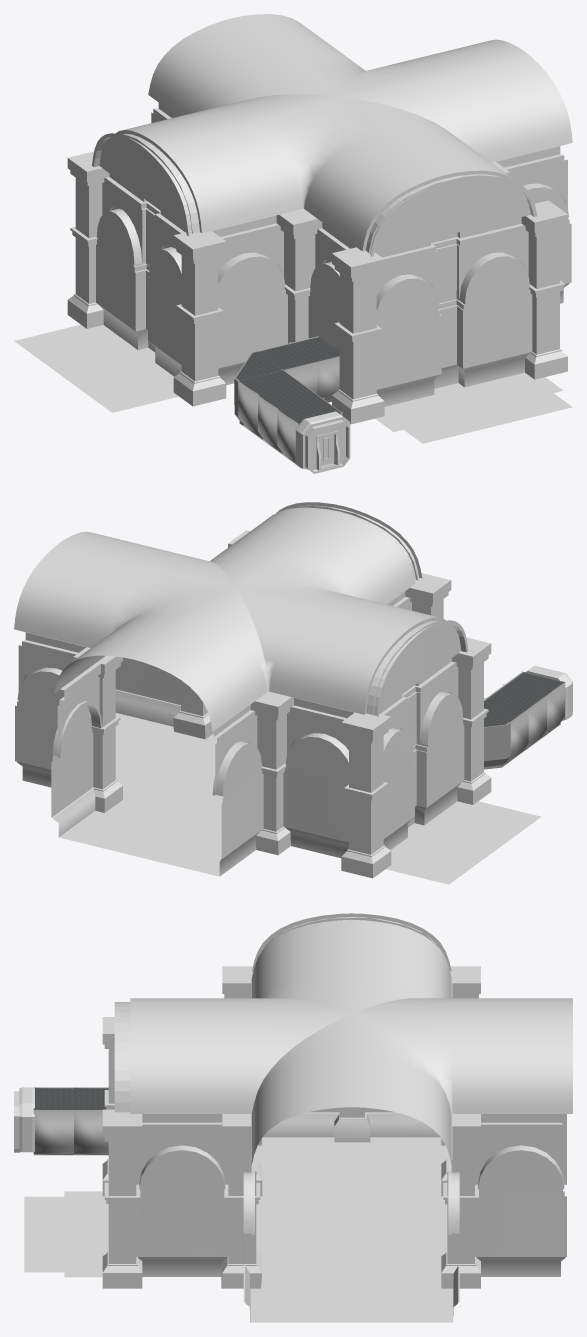
Rendered from room3.fbx.
3 renders of one model, top to bottom at view 1: azimuth 30°, elevation 25°; view 2: azimuth 150°, elevation 25°; view 3: azimuth 270°, elevation 25°, orthographic. The views are drawn at different scales.
Parts seen in each view (by area): view 1: TECHO PROFE004_RED BRICKS_0, culumna nueva 059_RED BRICKS_0, culumna nueva 056_RED BRICKS_0, culumna nueva 059_PIEDRA_0, culumna nueva 056_PIEDRA_0, TECHO PROFE004_SUELO_0.002, TECHO PROFE004_SUELO_0.001, TECHO PROFE004_PIEDRA_0, EndCapCell_Material #46_0.001, Cube.007, Cube.008, Cube.006 (+3 smaller); view 2: TECHO PROFE004_RED BRICKS_0, culumna nueva 056_RED BRICKS_0, TECHO PROFE004_SUELO_0, TECHO PROFE004_PIEDRA_0, culumna nueva 056_PIEDRA_0, TECHO PROFE004_SUELO_0.002, culumna nueva 059_PIEDRA_0, Cube.007, Cube.006, Cube.008, Cube.011, culumna nueva 059_RED BRICKS_0 (+1 smaller); view 3: TECHO PROFE004_RED BRICKS_0, TECHO PROFE004_SUELO_0, TECHO PROFE004_PIEDRA_0, culumna nueva 056_PIEDRA_0, TECHO PROFE004_SUELO_0.001, culumna nueva 059_PIEDRA_0, culumna nueva 059_RED BRICKS_0, Cube.006, Cube.007, TECHO PROFE004_SUELO_0.002, EndCapCell_Material #46_0.001, culumna nueva 056_RED BRICKS_0.
Boxes of the visible parts, x1,y1,x2,y2 form: TECHO PROFE004_RED BRICKS_0: (123,14,572,368); culumna nueva 059_RED BRICKS_0: (339,175,559,399); culumna nueva 056_RED BRICKS_0: (75,133,218,381); culumna nueva 059_PIEDRA_0: (332,170,567,424); culumna nueva 056_PIEDRA_0: (67,130,226,406); TECHO PROFE004_SUELO_0.002: (14,324,178,412); TECHO PROFE004_SUELO_0.001: (375,372,572,443); TECHO PROFE004_PIEDRA_0: (153,103,569,385); EndCapCell_Material #46_0.001: (295,411,350,473); Cube.007: (258,384,323,454); Cube.008: (238,370,304,439); Cube.006: (277,398,343,468); TECHO PROFE004_RED BRICKS_0: (14,507,439,858); culumna nueva 056_RED BRICKS_0: (349,621,483,854); TECHO PROFE004_SUELO_0: (59,713,223,876); TECHO PROFE004_PIEDRA_0: (17,591,410,876); culumna nueva 056_PIEDRA_0: (341,617,491,878); TECHO PROFE004_SUELO_0.002: (386,801,541,884); culumna nueva 059_PIEDRA_0: (228,502,451,606); Cube.007: (484,684,546,751); Cube.006: (503,671,565,737); Cube.008: (484,698,528,764); Cube.011: (484,716,511,769); culumna nueva 059_RED BRICKS_0: (293,505,443,618); TECHO PROFE004_RED BRICKS_0: (130,920,572,1302); TECHO PROFE004_SUELO_0: (250,1145,453,1322); TECHO PROFE004_PIEDRA_0: (136,983,566,1322); culumna nueva 056_PIEDRA_0: (222,913,480,1145); TECHO PROFE004_SUELO_0.001: (24,1191,143,1277); culumna nueva 059_PIEDRA_0: (102,1002,142,1288); culumna nueva 059_RED BRICKS_0: (108,1049,136,1263); Cube.006: (33,1087,73,1155); Cube.007: (74,1087,108,1155); TECHO PROFE004_SUELO_0.002: (262,1137,441,1145); EndCapCell_Material #46_0.001: (14,1087,34,1152); culumna nueva 056_RED BRICKS_0: (265,918,444,1117).
Bounding box in the file's own units: 3909 × 1728 × 3971.
